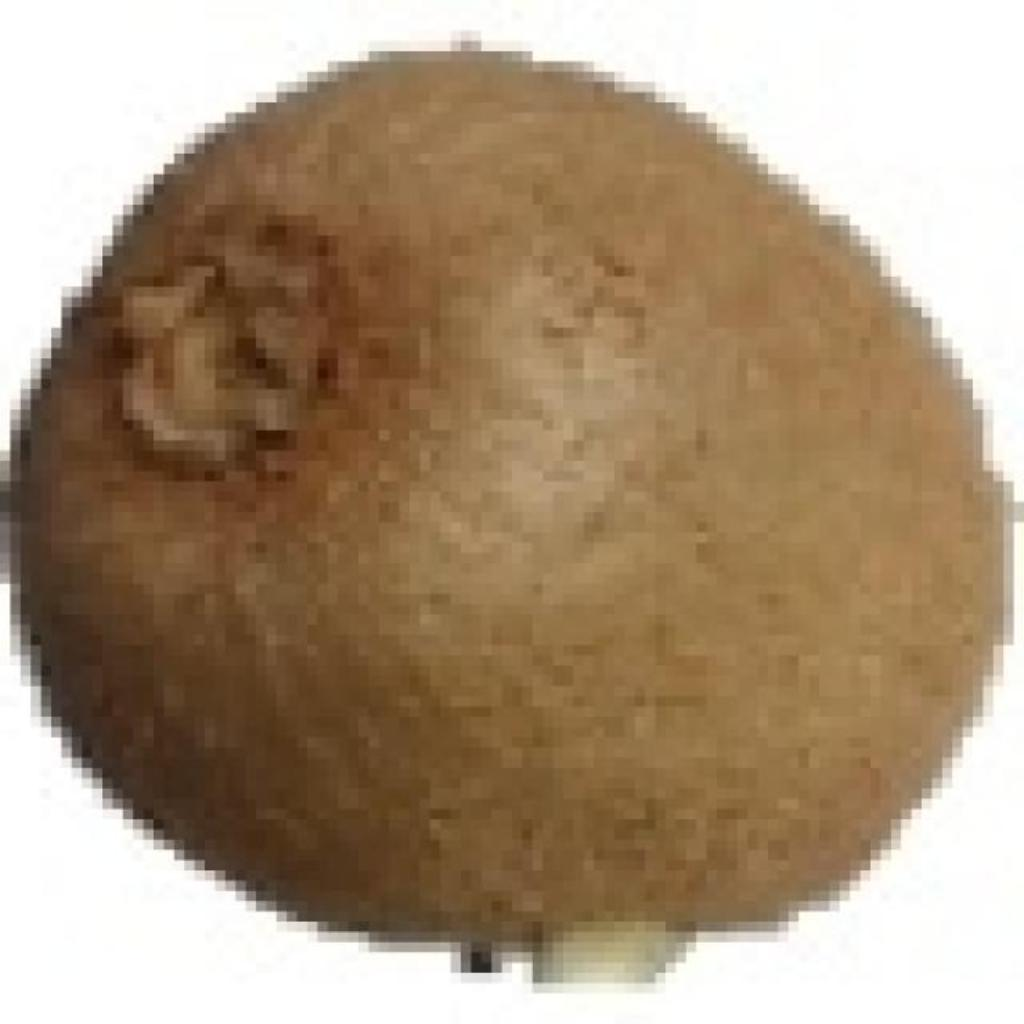kiwi: (31, 41, 1014, 963)
